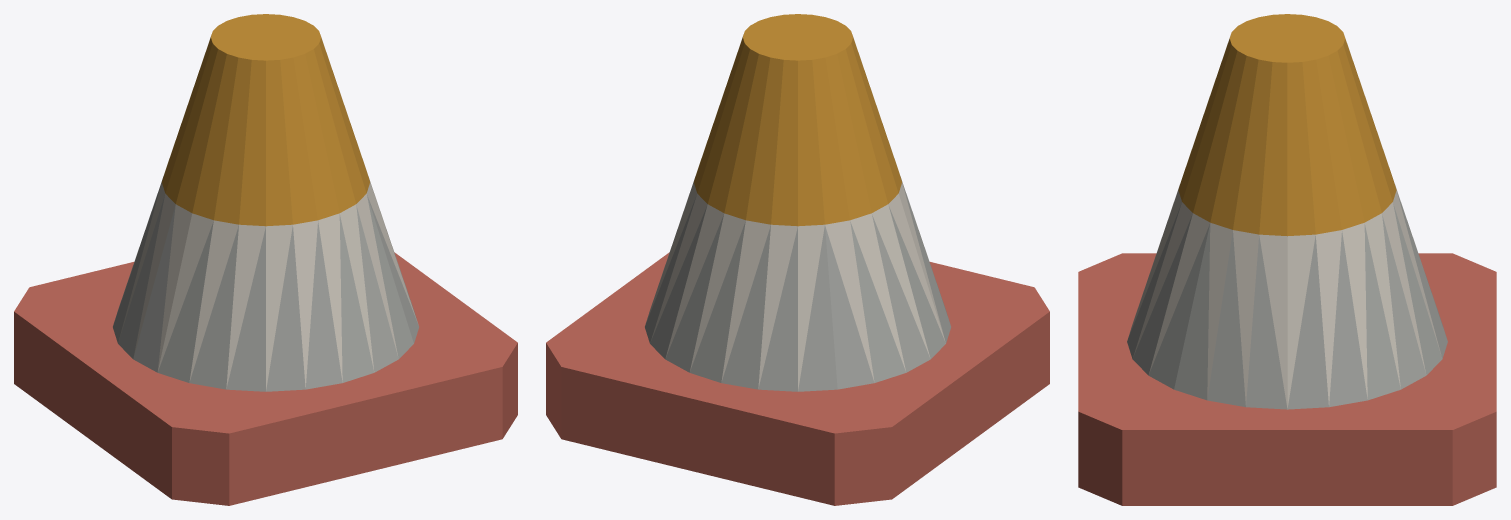
The picture shows the model from 3 angles, left to right: view 1: azimuth 30°, elevation 25°; view 2: azimuth 150°, elevation 25°; view 3: azimuth 270°, elevation 25°; orthographic projection. The views are drawn at different scales.
Bounding box in the file's own units: 1 × 1 × 1.
